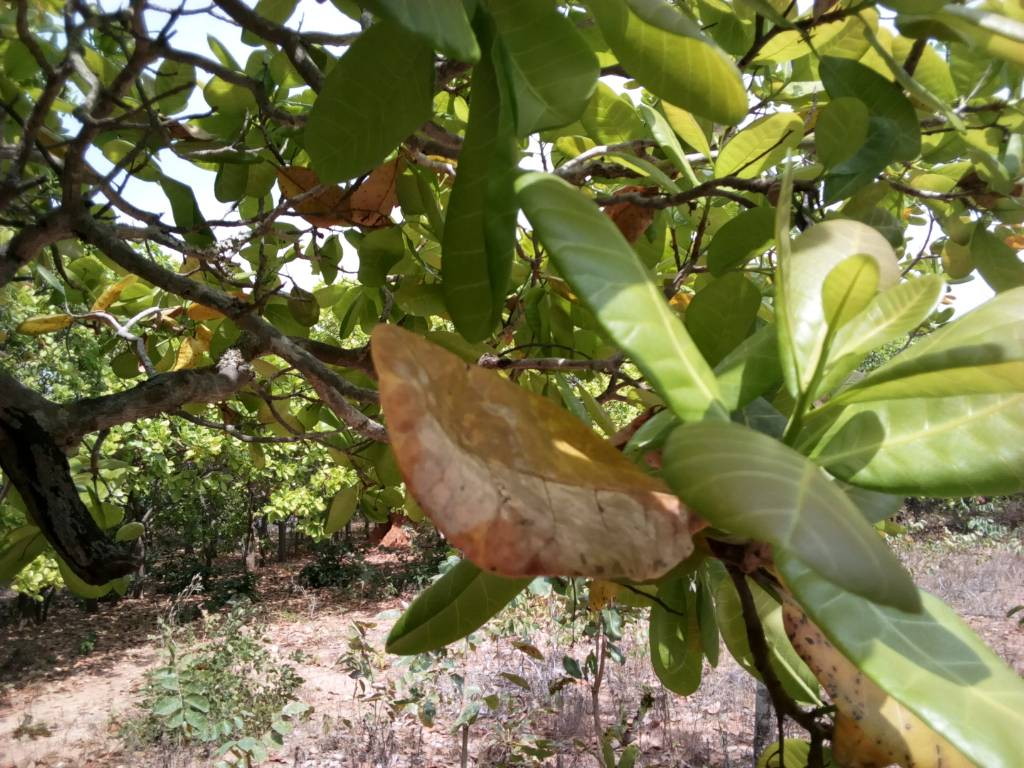Bactériose: (372, 328, 688, 582)
